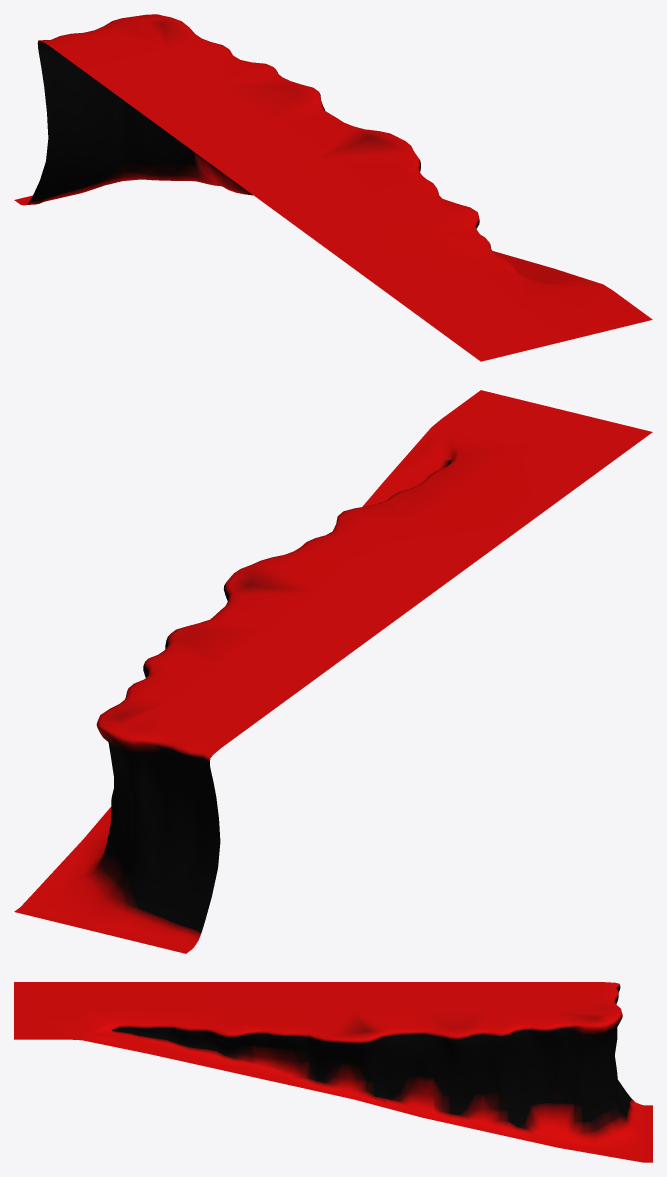
Rendered from ClimbCliff01B 2M Background.fbx.
The picture shows the model from 3 angles, top to bottom: view 1: azimuth 30°, elevation 25°; view 2: azimuth 150°, elevation 25°; view 3: azimuth 270°, elevation 25°; orthographic projection. The views are drawn at different scales.
Parts seen in each view (by area): view 1: ClimbCliff01B 2M Background; view 2: ClimbCliff01B 2M Background; view 3: ClimbCliff01B 2M Background.
Boxes of the visible parts, x1=… form: ClimbCliff01B 2M Background: x1=14, y1=14, x2=652, y2=361; ClimbCliff01B 2M Background: x1=14, y1=390, x2=652, y2=953; ClimbCliff01B 2M Background: x1=14, y1=982, x2=652, y2=1162.
Bounding box in the file's own units: 2 × 2 × 9.4.
